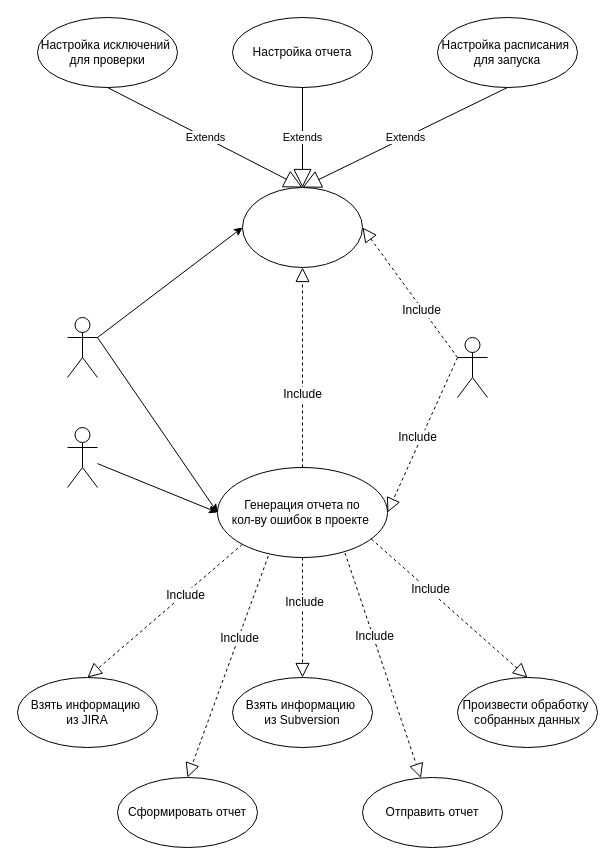
Image size: 615x865. Some labels were removed from this diagram. Each missing label, with the box of its shape:
Менеджер проекта: (66, 316, 98, 378)
Модуль системы CSIA: (456, 336, 488, 398)
Настройка модуля: (242, 186, 362, 268)
Расписание: (66, 426, 98, 488)
